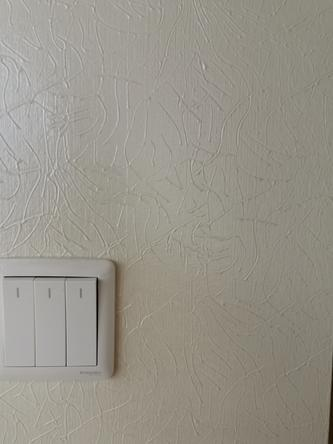switch: (61, 274, 105, 370), (31, 275, 69, 371), (2, 273, 39, 370)
